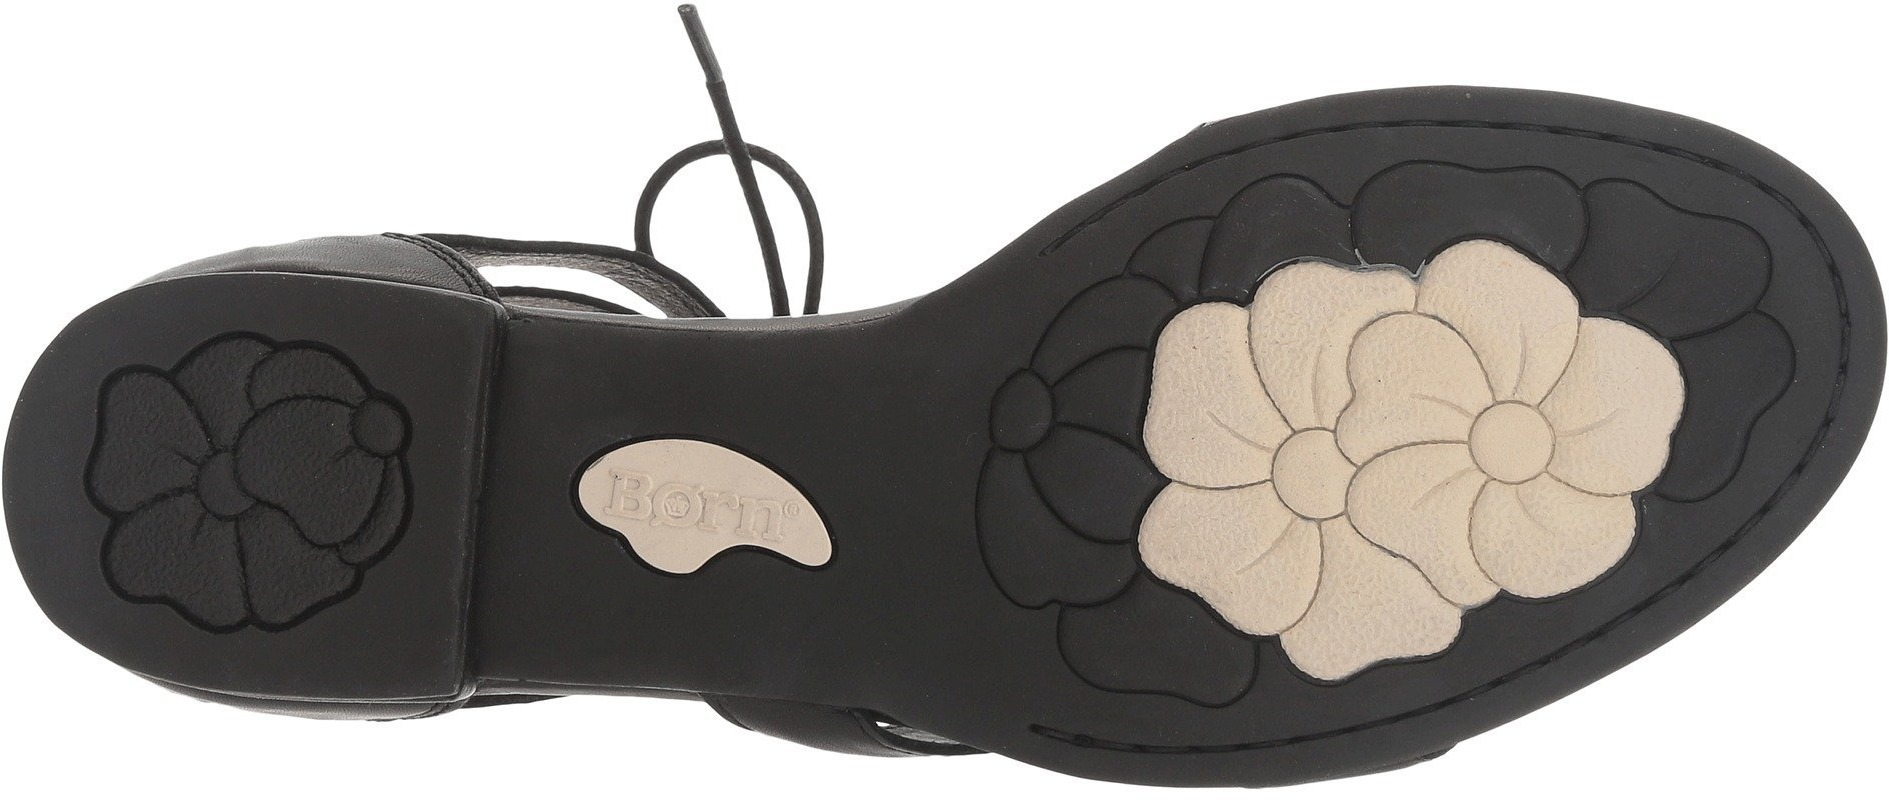circle: (1402, 304, 1646, 567), (313, 352, 452, 488), (626, 460, 731, 545)
exclude: (486, 198, 899, 770)
line: (313, 352, 452, 488)
other: (806, 335, 985, 502), (836, 559, 988, 702), (481, 539, 614, 686)
star: (1402, 304, 1646, 567)
text: (626, 460, 731, 545)
